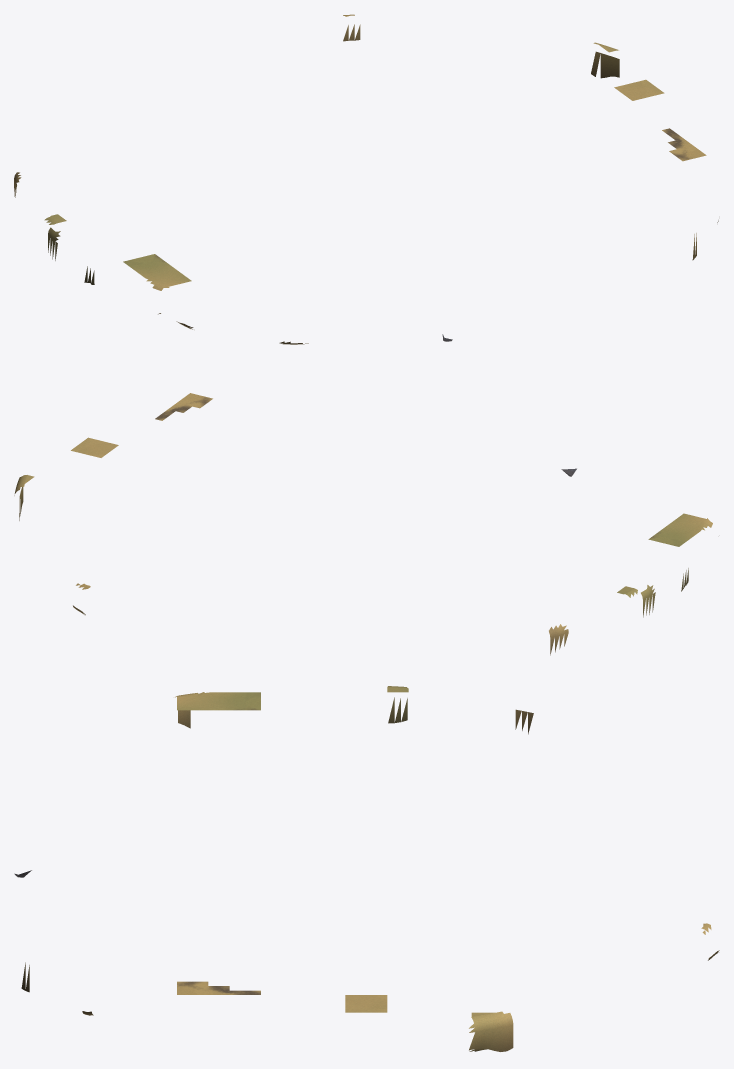
3 renders of one model, top to bottom at view 1: azimuth 30°, elevation 25°; view 2: azimuth 150°, elevation 25°; view 3: azimuth 270°, elevation 25°, orthographic. The views are drawn at different scales.
Parts seen in each view (by area): view 1: Grass_4_1_0_110, Grass_-5_-2_0_100, Grass_3_-2_0, Grass_4_0_0_000, Grass_-5_-2_0_110; view 2: Grass_-5_-2_0_100, Grass_3_-2_0, Grass_-5_-2_0_110, Grass_4_0_0_000; view 3: Grass_4_1_0_110, Grass_-5_-2_0_100, Grass_-5_-2_0_110, Grass_3_-2_0, Grass_4_0_0_000.
Part boxes in pixels (x1=…): Grass_4_1_0_110: x1=591, y1=42, x2=619, y2=78; Grass_-5_-2_0_100: x1=142, y1=267, x2=191, y2=314; Grass_3_-2_0: x1=662, y1=128, x2=706, y2=161; Grass_4_0_0_000: x1=614, y1=79, x2=664, y2=100; Grass_-5_-2_0_110: x1=123, y1=254, x2=173, y2=275; Grass_-5_-2_0_100: x1=666, y1=513, x2=712, y2=533; Grass_3_-2_0: x1=155, y1=393, x2=212, y2=420; Grass_-5_-2_0_110: x1=648, y1=526, x2=696, y2=546; Grass_4_0_0_000: x1=71, y1=437, x2=118, y2=457; Grass_4_1_0_110: x1=469, y1=1011, x2=513, y2=1051; Grass_-5_-2_0_100: x1=175, y1=692, x2=218, y2=728; Grass_-5_-2_0_110: x1=219, y1=692, x2=260, y2=710; Grass_3_-2_0: x1=177, y1=981, x2=260, y2=994; Grass_4_0_0_000: x1=345, y1=995, x2=387, y2=1012.
Bounding box in the file's own units: 614 × 53.89 × 536.
16 materials, 16 textured.
